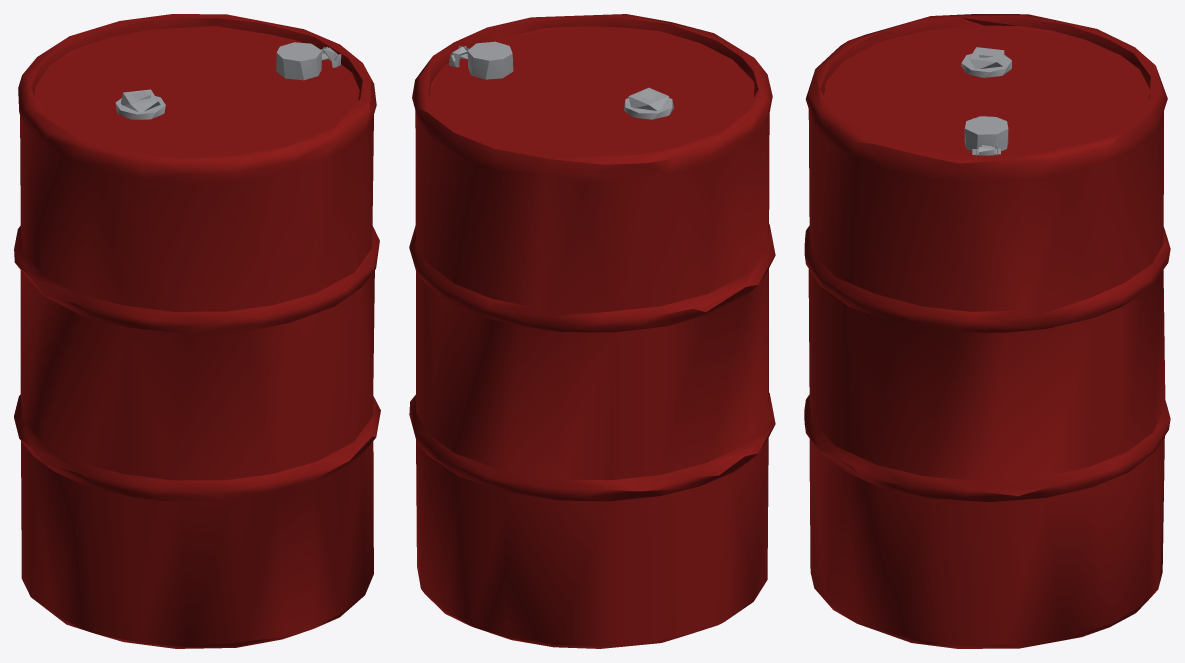
The model's file is oildrum.glb.
The picture shows the model from 3 angles, left to right: view 1: azimuth 30°, elevation 25°; view 2: azimuth 150°, elevation 25°; view 3: azimuth 270°, elevation 25°; orthographic projection.
Visible parts, largest first — view 1: drum_body, plug_cap; view 2: drum_body, plug_cap; view 3: drum_body, plug_cap.
Boxes of the visible parts, box(x1,y1,x2,y2) form: drum_body: box(14, 14, 380, 648); plug_cap: box(276, 42, 337, 80); drum_body: box(409, 14, 775, 648); plug_cap: box(451, 41, 513, 79); drum_body: box(804, 14, 1170, 648); plug_cap: box(964, 116, 1008, 155).
Bounding box in the file's own units: 0.5924 × 0.9019 × 0.5896.
